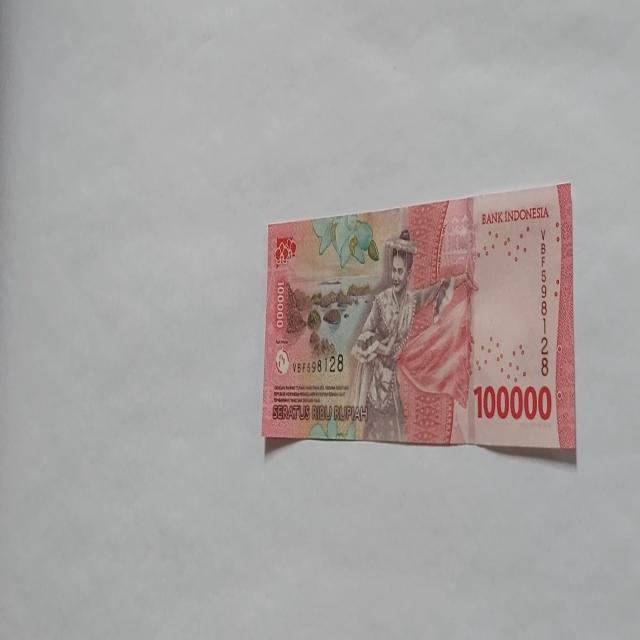seratus ribu rupiah: (260, 180, 576, 458), (348, 228, 456, 442)
